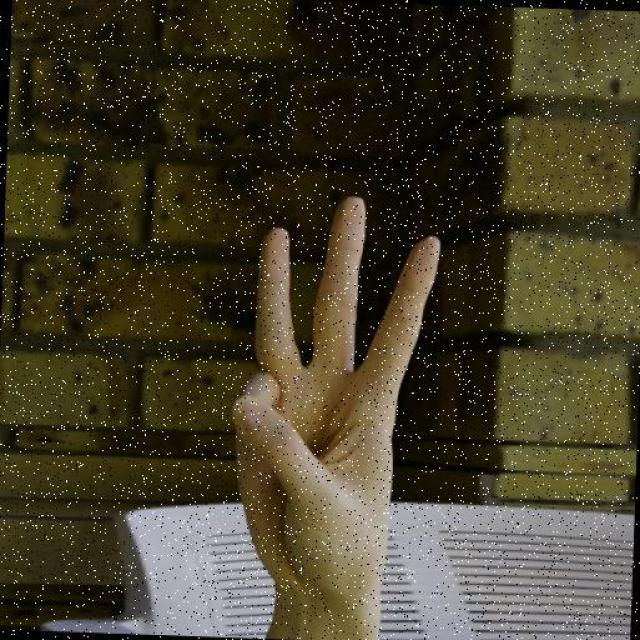W: (178, 167, 467, 606)
